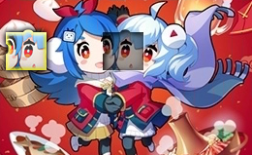gap: (103, 31, 144, 70)
